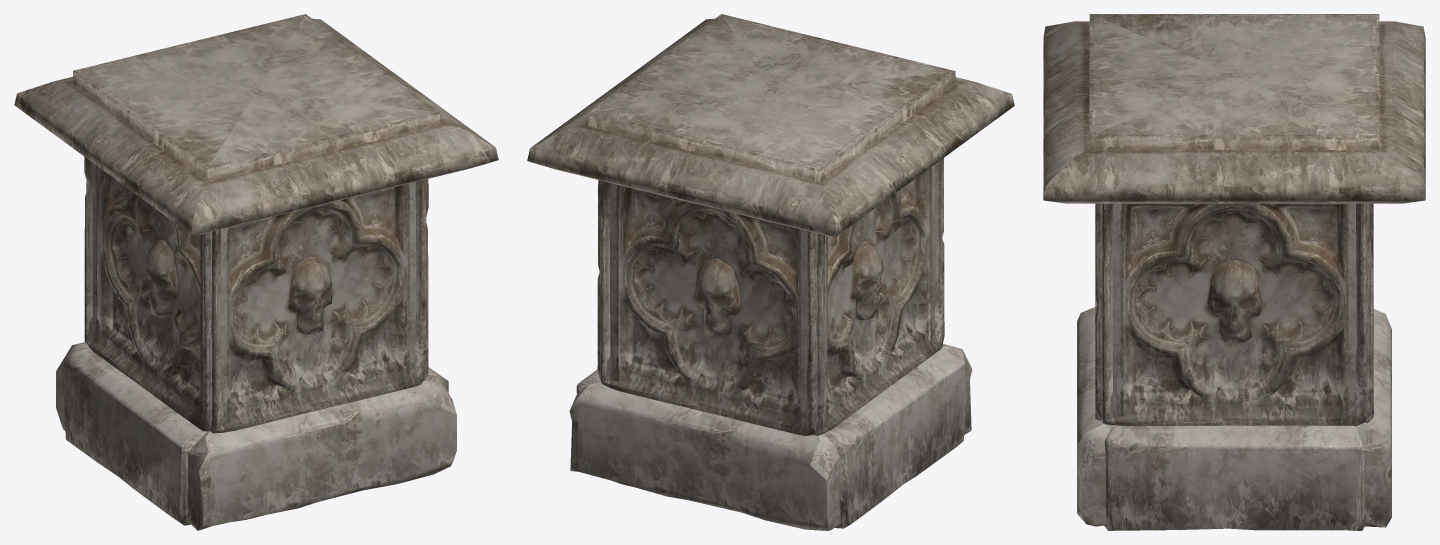
3 views of the same model, side by side, from view 1: azimuth 30°, elevation 25°; view 2: azimuth 150°, elevation 25°; view 3: azimuth 270°, elevation 25° (orthographic). The views are drawn at different scales.
Visible parts, largest first — view 1: SM_StatuePlinth01_LOD0; view 2: SM_StatuePlinth01_LOD0; view 3: SM_StatuePlinth01_LOD0.
Boxes of the visible parts, box(x1,y1,x2,y2) form: SM_StatuePlinth01_LOD0: box(14, 14, 498, 530); SM_StatuePlinth01_LOD0: box(527, 14, 1014, 530); SM_StatuePlinth01_LOD0: box(1043, 14, 1425, 530).
Bounding box in the file's own units: 1.15 × 1.28 × 1.15.
Materials: 2 (2 with a texture image).
